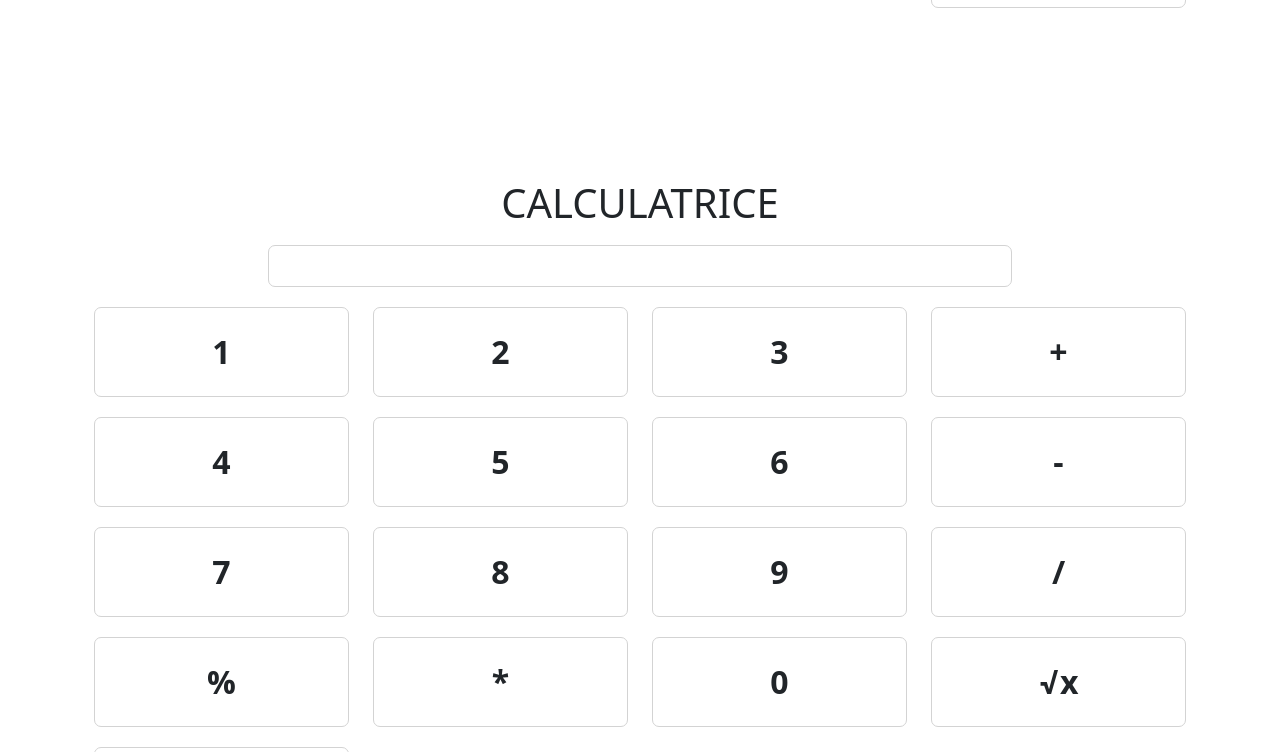
test square fonctional
(page scrolled)
Click the text with class "touch" showing "1": (222, 352) [94,307,349,397]
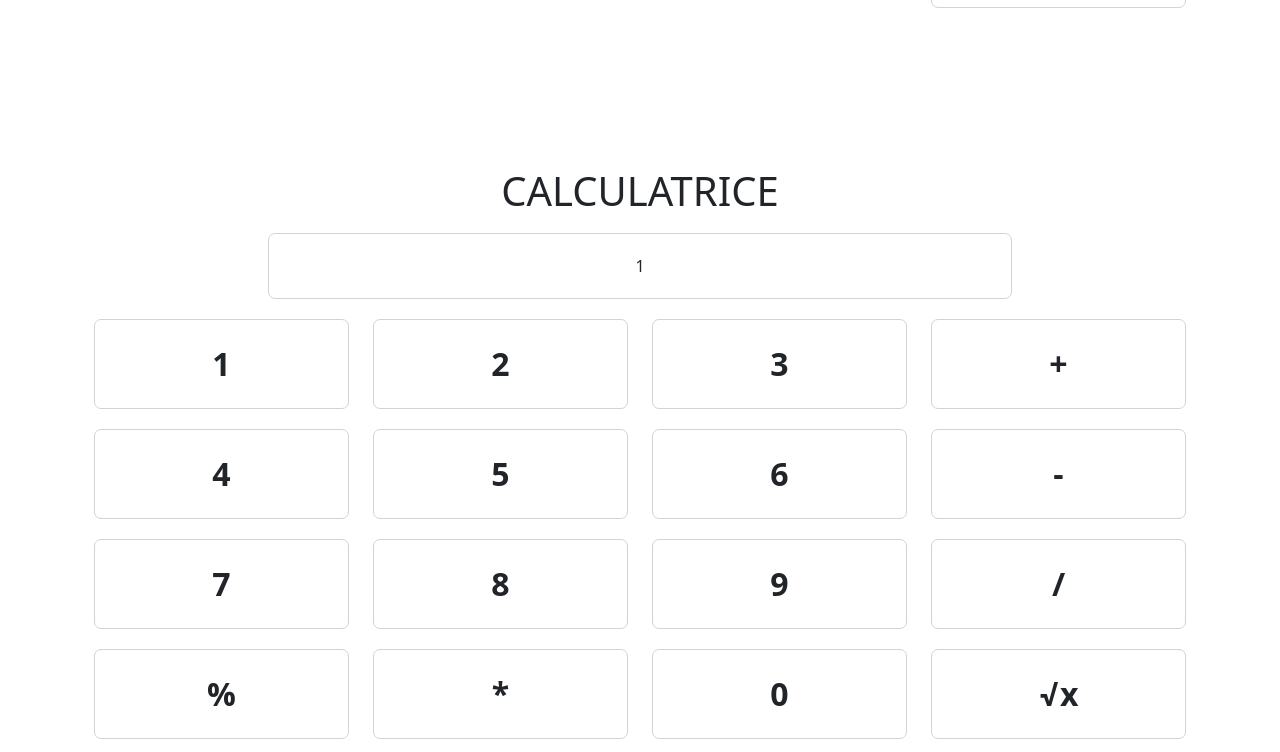
Click the text with class "touch" showing "6": (780, 474) [652,429,907,519]
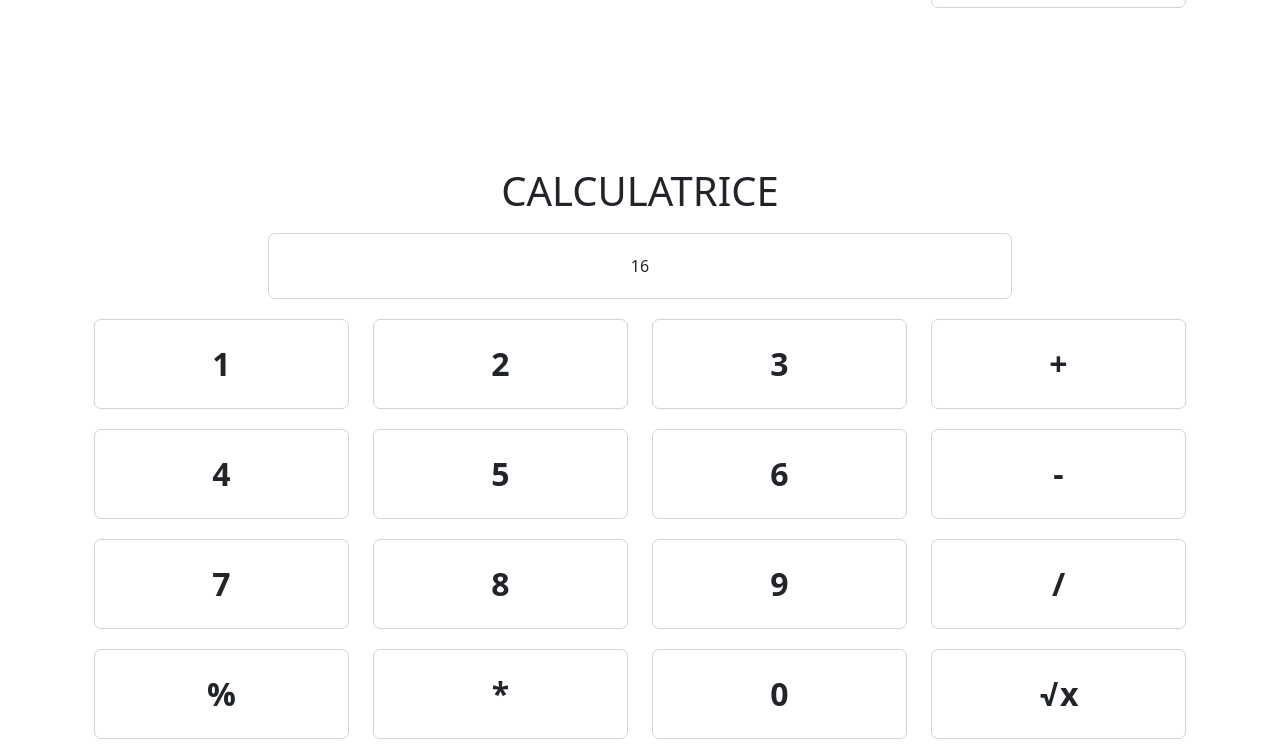
Click the text with class "touch" showing "√x": (1058, 694) [931,649,1186,739]
(page scrolled)
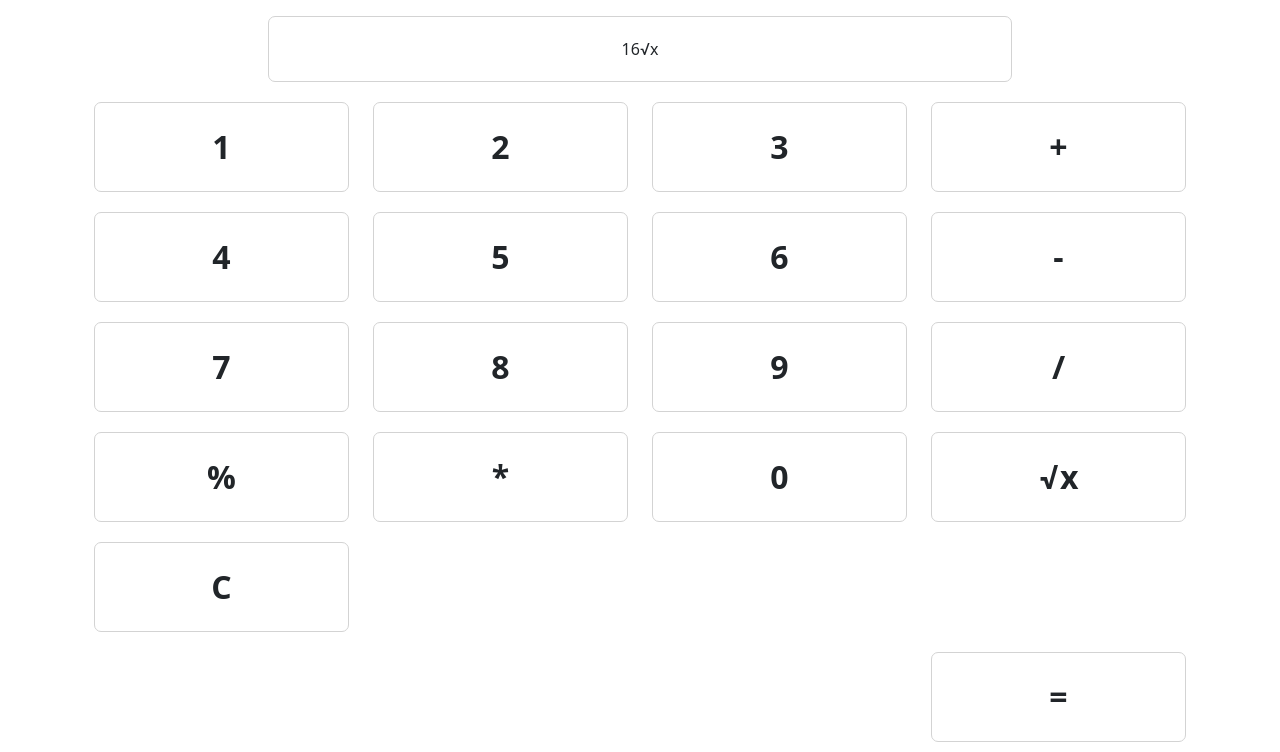
Click the text with class "touch" showing "=": (1058, 697) [931,652,1186,742]
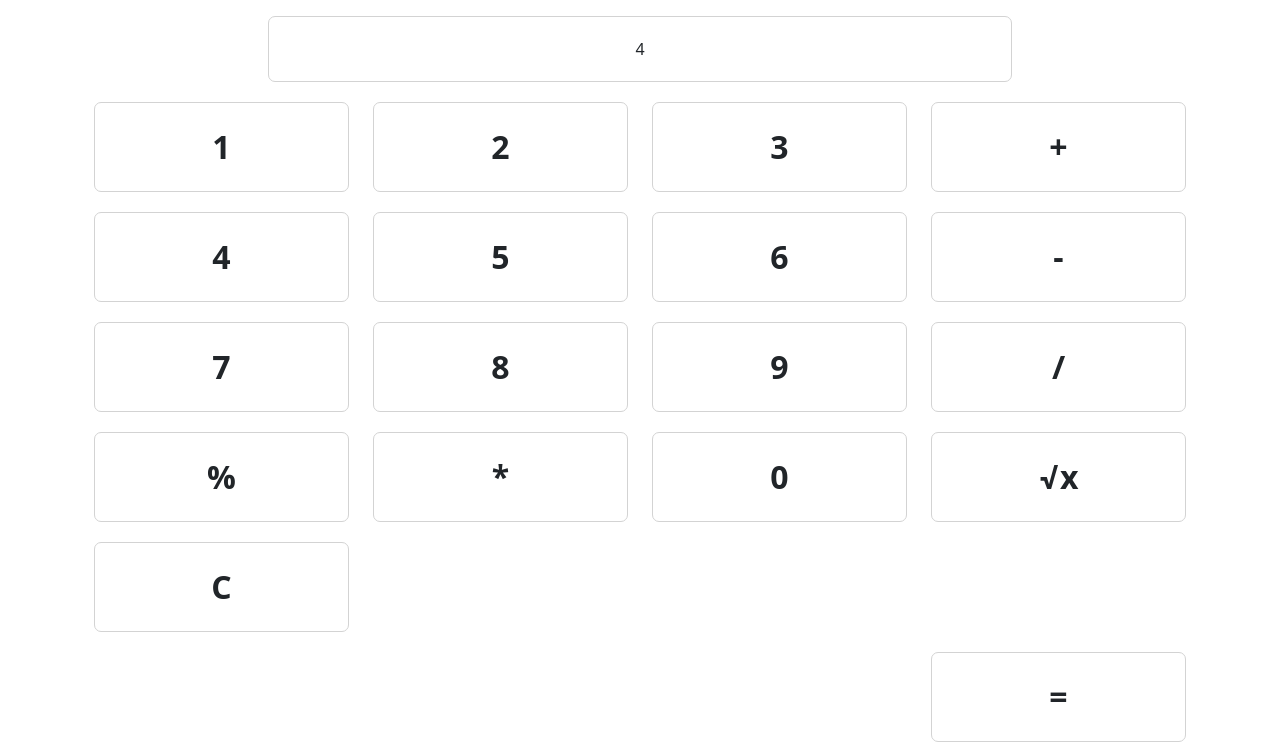
Expected: the text with class "result" reads "4", [635,38,645,60]
